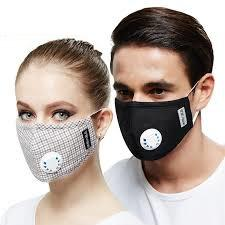OK: (17, 97, 100, 180), (115, 79, 198, 159)
